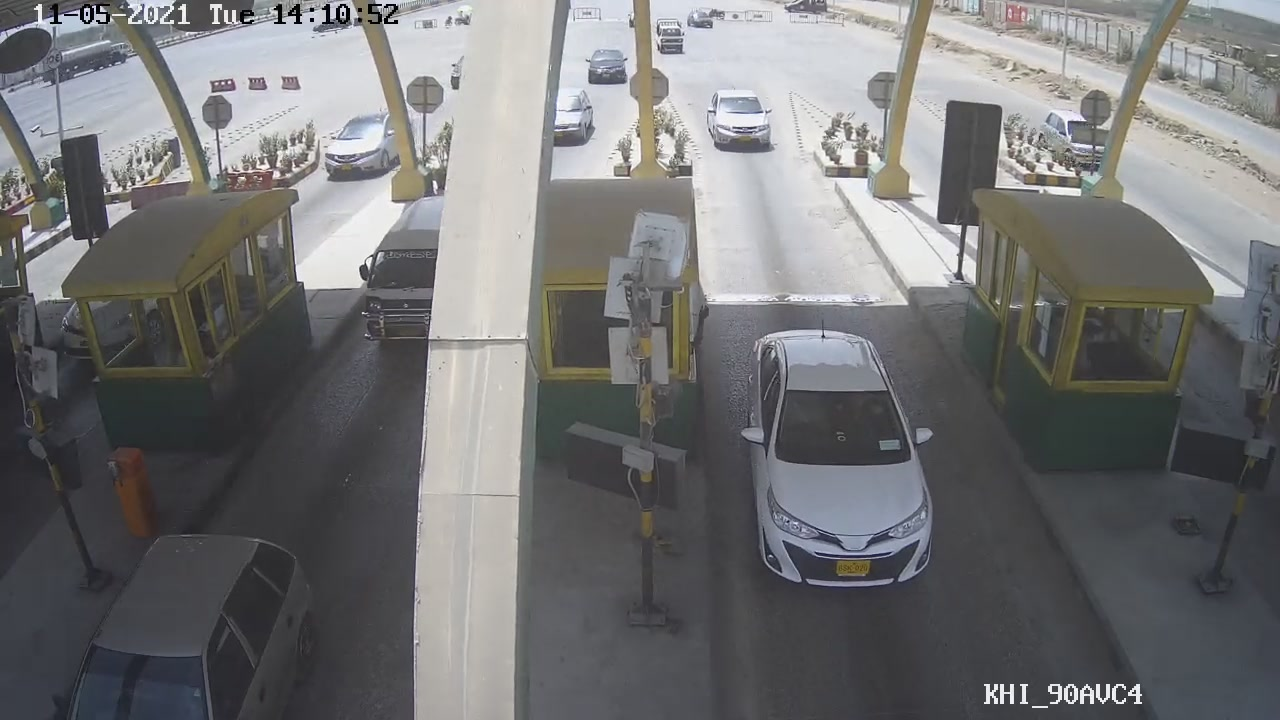F1: (733, 321, 948, 594)
